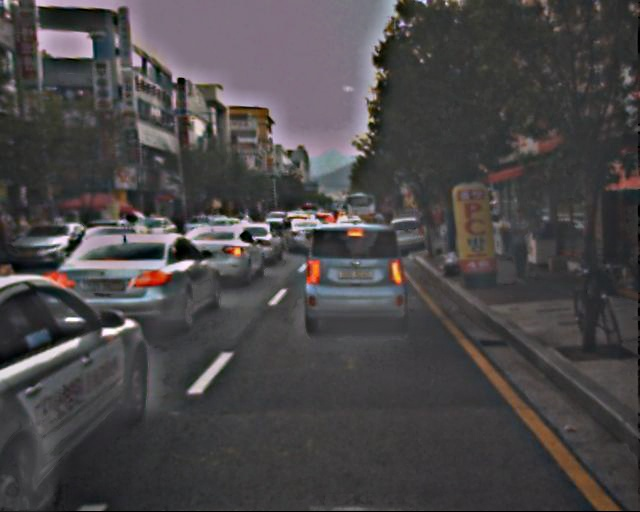person: (504, 207, 537, 287)
